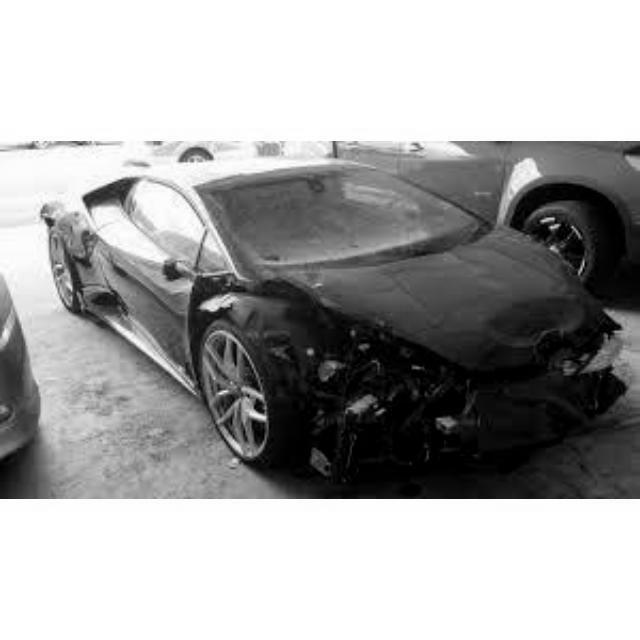bonnet-dent: (353, 269, 596, 365)
fender-dent: (216, 287, 367, 372)
